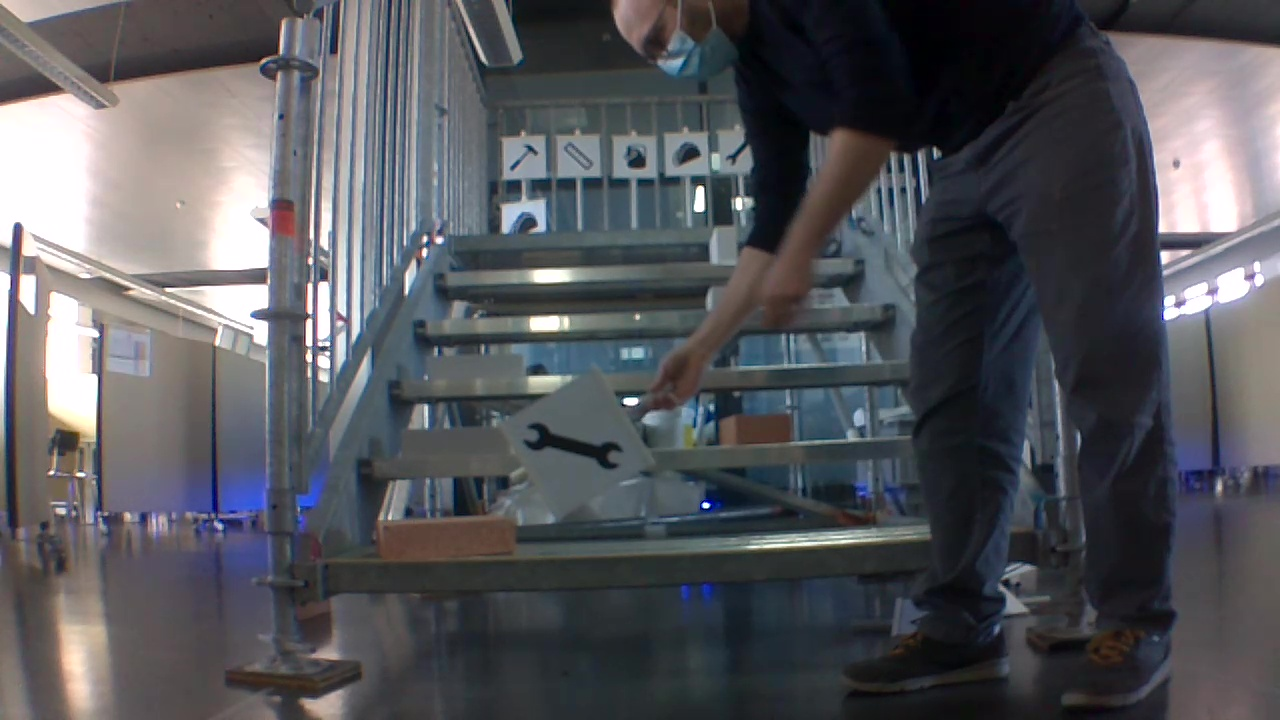brick: (377, 519, 512, 557), (402, 426, 506, 458), (428, 353, 524, 382), (720, 412, 789, 443), (708, 226, 739, 263)
bucket: (618, 143, 647, 171)
hammer: (508, 140, 538, 174)
ruler: (559, 139, 597, 174)
taco: (669, 137, 701, 170), (502, 207, 537, 233)
wrench: (521, 414, 628, 477)
